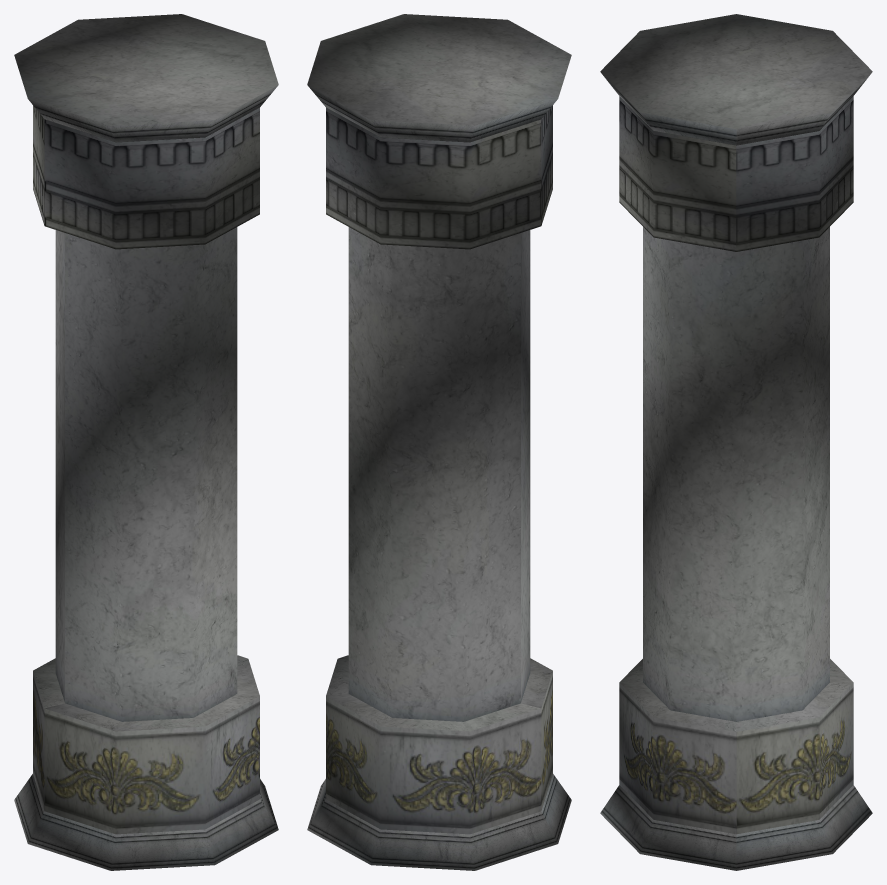
Rendered from pillar-01.glb.
3 views of the same model, side by side, from view 1: azimuth 30°, elevation 25°; view 2: azimuth 150°, elevation 25°; view 3: azimuth 270°, elevation 25° (orthographic).
Parts seen in each view (by area): view 1: pillar_01; view 2: pillar_01; view 3: pillar_01.
Boxes of the visible parts, box(x1,y1,x2,y2) form: pillar_01: box(14, 14, 278, 870); pillar_01: box(307, 14, 571, 870); pillar_01: box(600, 14, 872, 870).
Size of the model in its own units: 1 by 3 by 1.
1 material, 1 textured.
